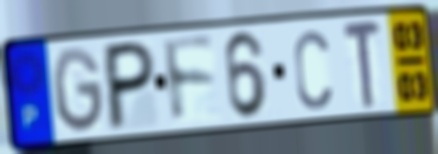6: (222, 28, 271, 123)
C: (291, 27, 334, 113)
F: (160, 34, 218, 128)
G: (50, 44, 107, 137)
P: (104, 38, 158, 135)
T: (340, 19, 384, 111)
